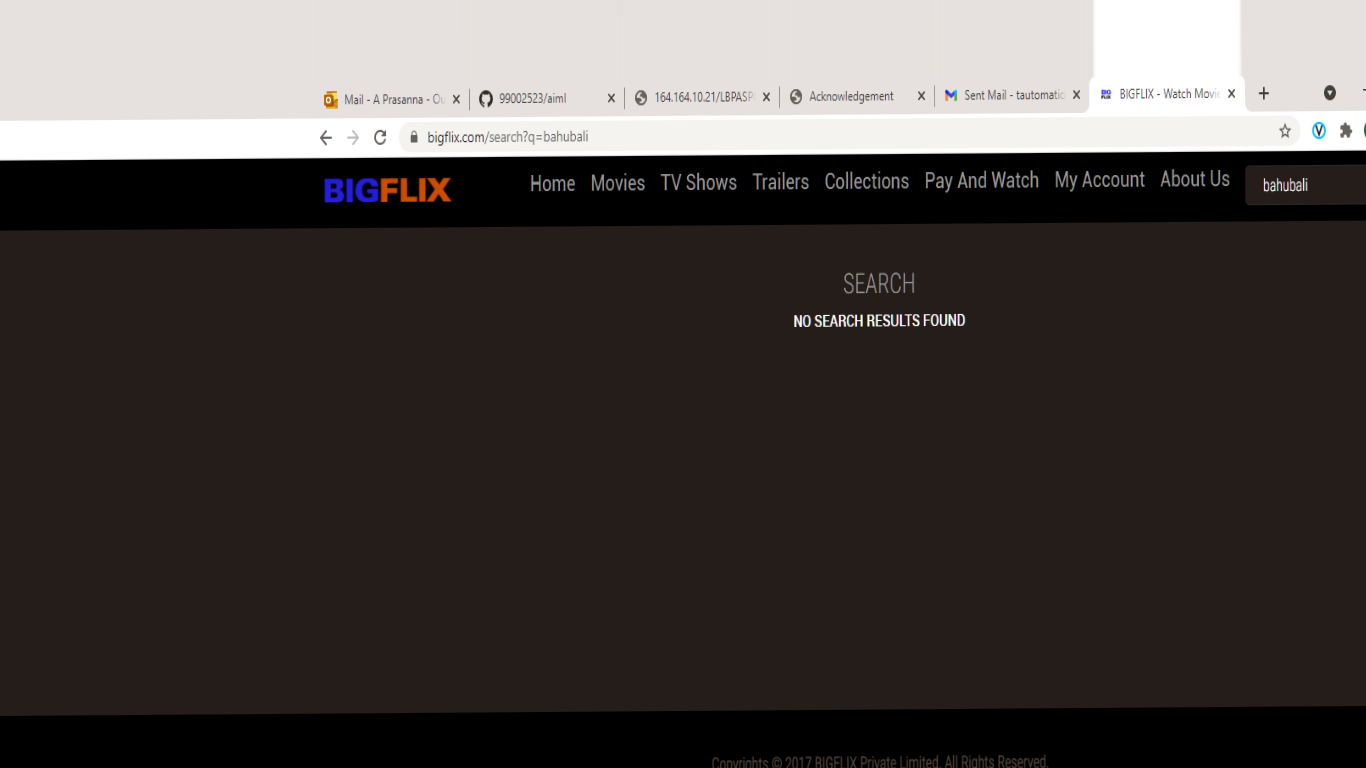myaccountbutton: (1053, 157, 1151, 200)
noresultsfound: (755, 242, 1025, 356)
searchtextbox: (1251, 163, 1363, 208)
